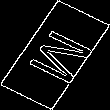M_SE: (15, 22, 95, 88)
